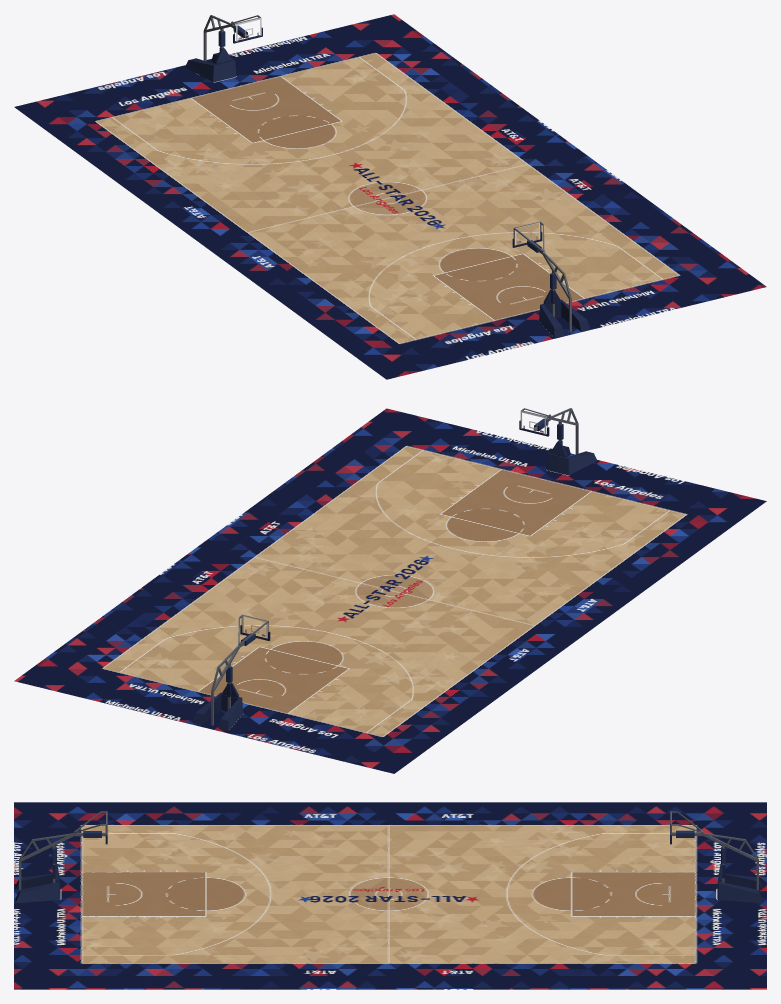
The model's file is asg_court.glb.
3 renders of one model, top to bottom at view 1: azimuth 30°, elevation 25°; view 2: azimuth 150°, elevation 25°; view 3: azimuth 270°, elevation 25°, orthographic.
Visible parts, largest first — view 1: piso, aro_Indigo, aro_Yellow; view 2: piso, aro_Indigo, aro_Yellow; view 3: piso, aro_Yellow, aro_Indigo, aro_White_5.
Boxes of the visible parts, box(x1,y1,x2,y2) form: piso: box(14, 14, 766, 379); aro_Indigo: box(188, 27, 590, 337); aro_Yellow: box(203, 15, 571, 332); piso: box(14, 408, 766, 773); aro_Indigo: box(192, 420, 593, 730); aro_Yellow: box(211, 408, 578, 725); piso: box(14, 802, 766, 989); aro_Yellow: box(19, 811, 758, 890); aro_Indigo: box(15, 821, 762, 902); aro_White_5: box(16, 883, 761, 902).
Size of the model in its own units: 20.72 by 3.94 by 35.16.
Materials: 10 (3 with a texture image).
